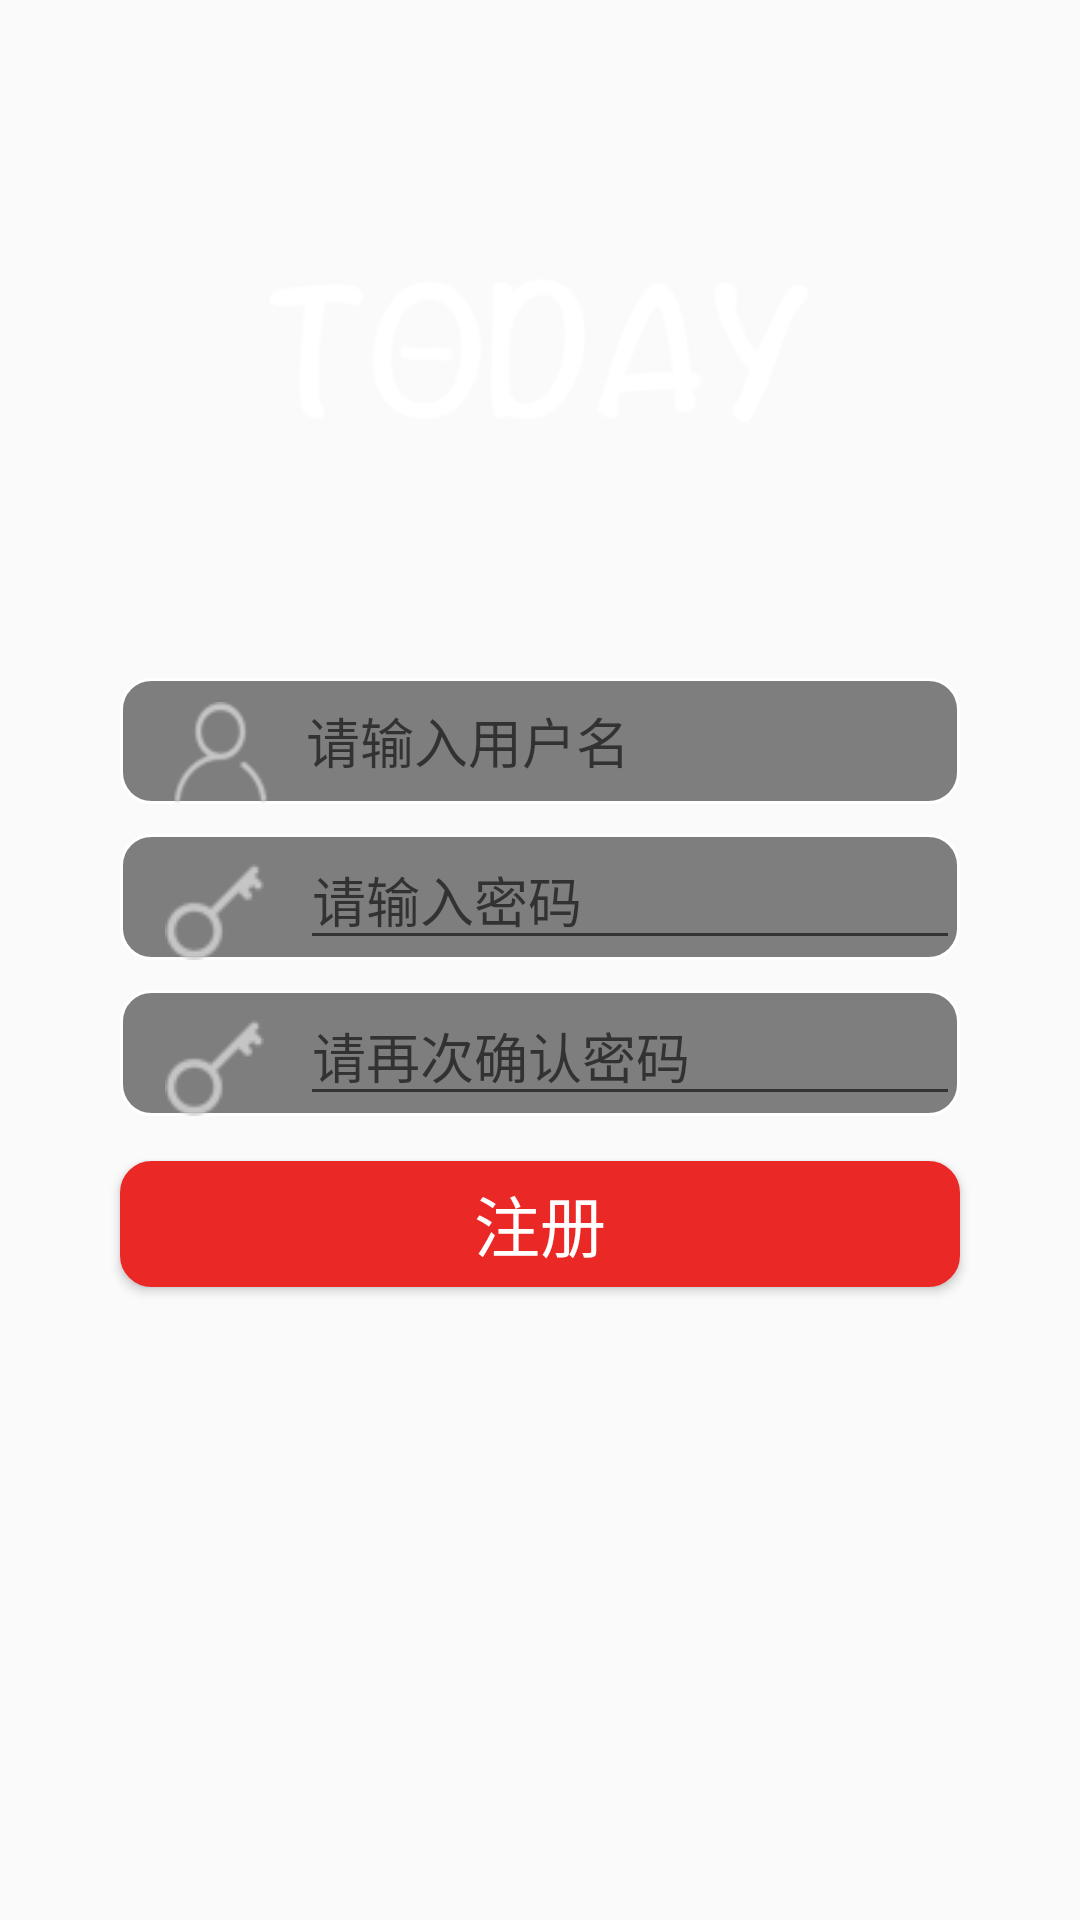

Icons on this 1080*1920 Android screen, each with its box as (x1,y1,x2,y2):
account password: (165,866,264,960), (165,1022,264,1116)
account user: (165,702,276,804)
